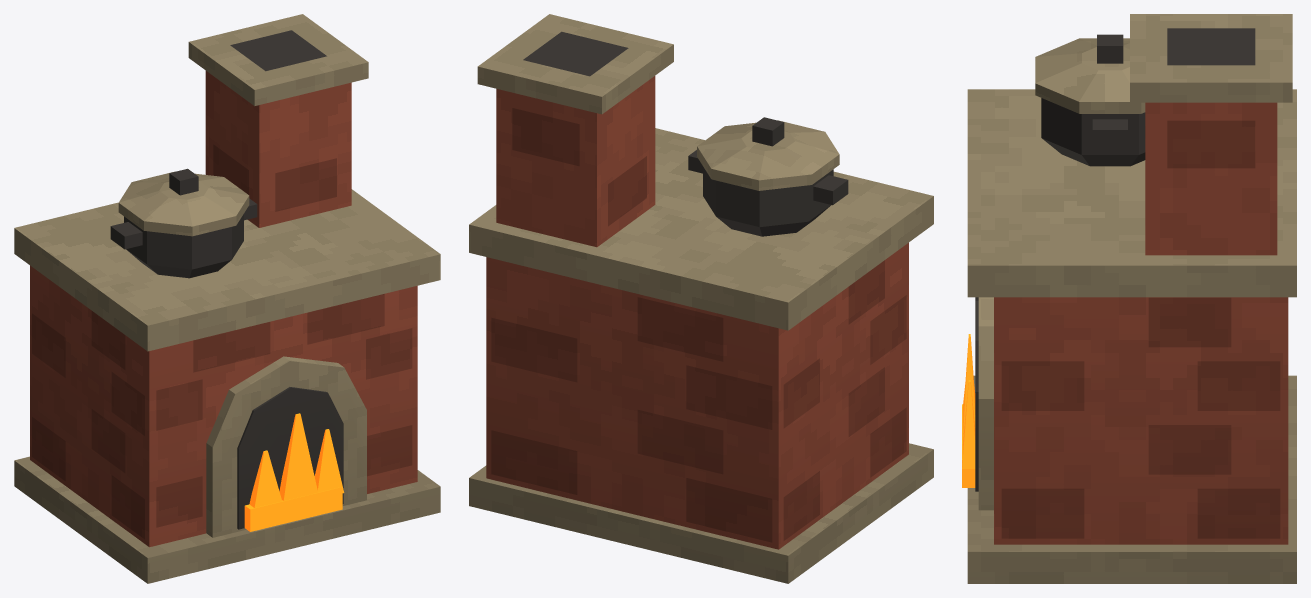
Rendered from int_stove.glb.
3 views of the same model, side by side, from view 1: azimuth 30°, elevation 25°; view 2: azimuth 150°, elevation 25°; view 3: azimuth 270°, elevation 25° (orthographic). The views are drawn at different scales.
Visible parts, largest first — view 1: int_stove, glow_fire; view 2: int_stove; view 3: int_stove, glow_fire.
Boxes of the visible parts, x1,y1,x2,y2 form: int_stove: [14, 14, 440, 583]; glow_fire: [244, 413, 344, 531]; int_stove: [469, 14, 933, 583]; int_stove: [967, 14, 1296, 583]; glow_fire: [962, 334, 975, 487].
Size of the model in its own units: 0.95 by 1.25 by 0.7625.
Materials: 4 (2 with a texture image).
